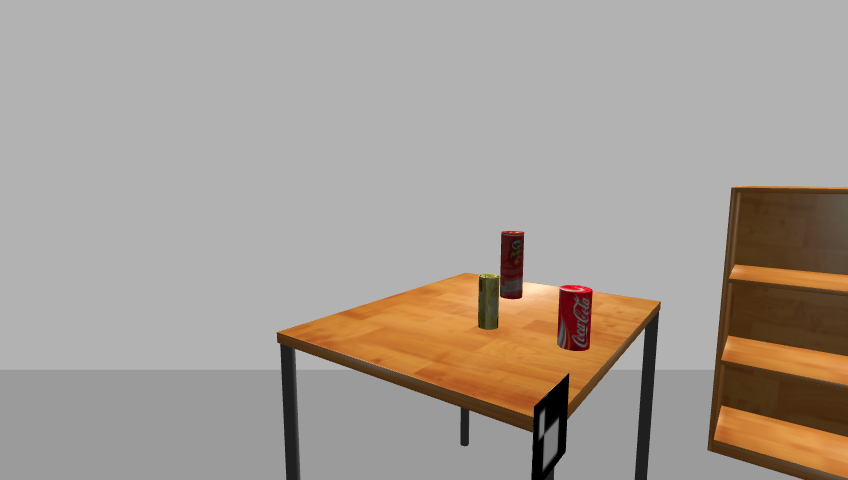aruco marker: (528, 374, 572, 480)
biscuits pack: (477, 274, 500, 331)
bookshelf: (703, 185, 848, 479)
coke can: (557, 285, 595, 352)
dinner table: (270, 272, 669, 480)
pringles can: (498, 230, 526, 301)
